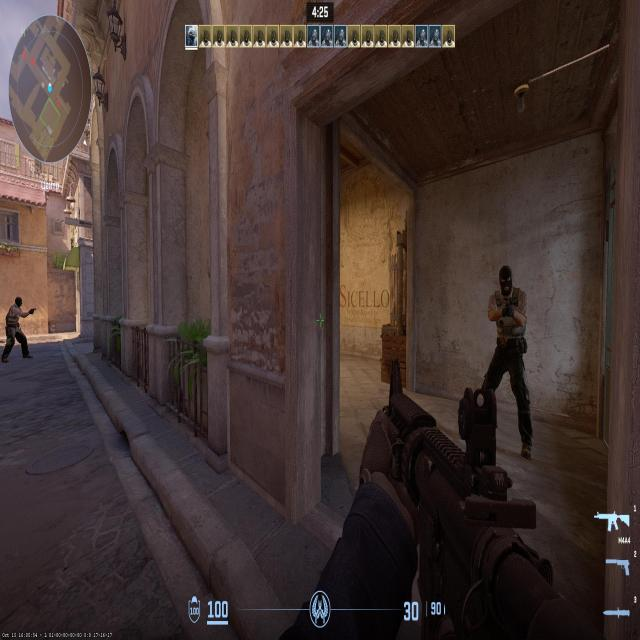T: (491, 266, 526, 417), (8, 295, 22, 355)
T_heat: (500, 267, 513, 290), (16, 298, 19, 309)
